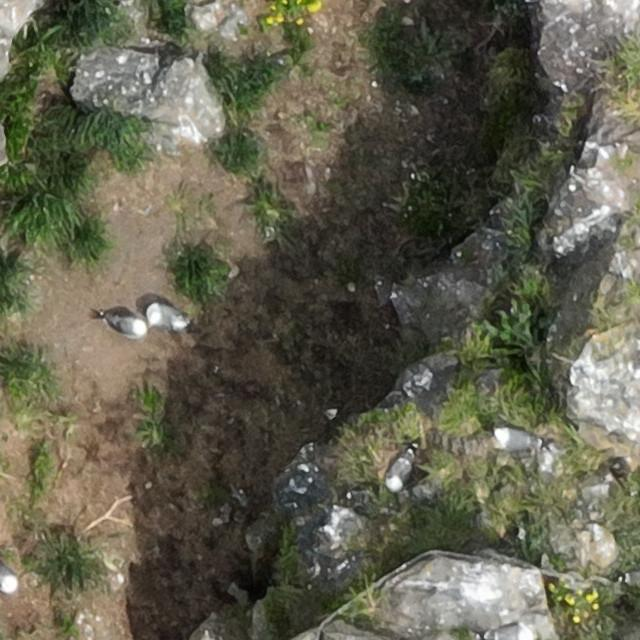umineko: (108, 314, 147, 336), (148, 304, 185, 327), (495, 429, 535, 450), (389, 453, 411, 487), (1, 563, 17, 593), (624, 570, 639, 585)
